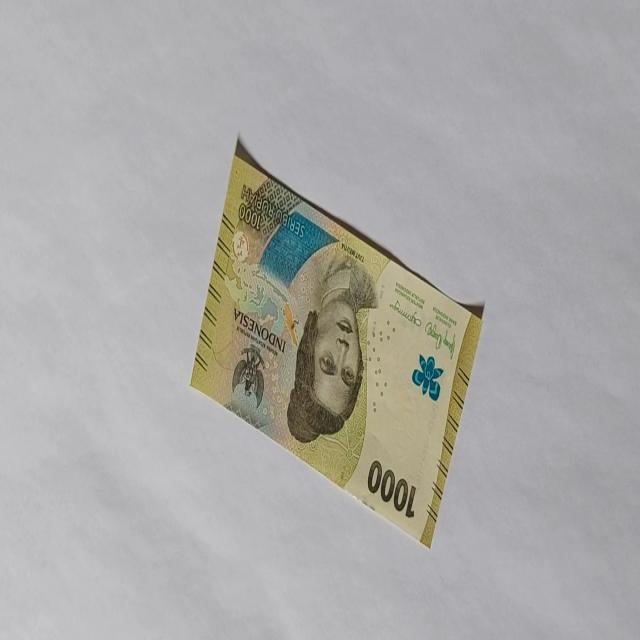seribu rupiah kertas: (190, 136, 484, 550)
